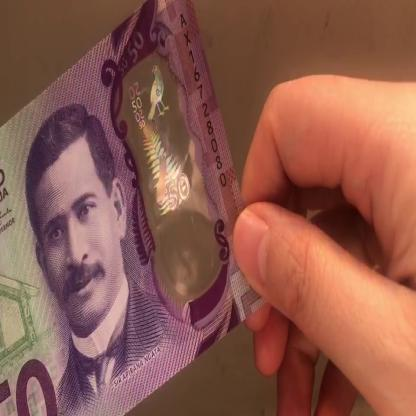50F: (126, 58, 192, 275)
